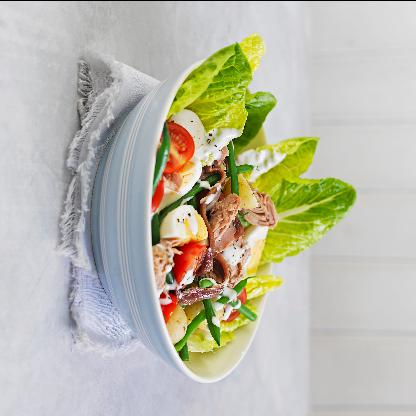salad: (152, 34, 356, 360)
